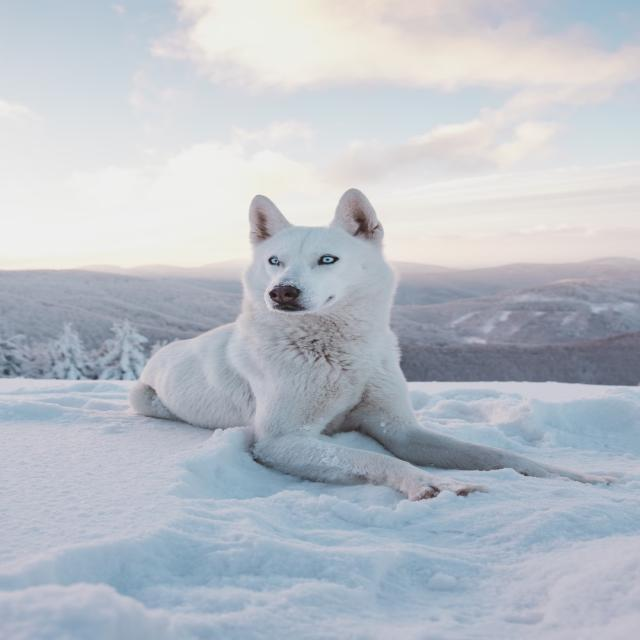husky: (197, 163, 408, 351)
